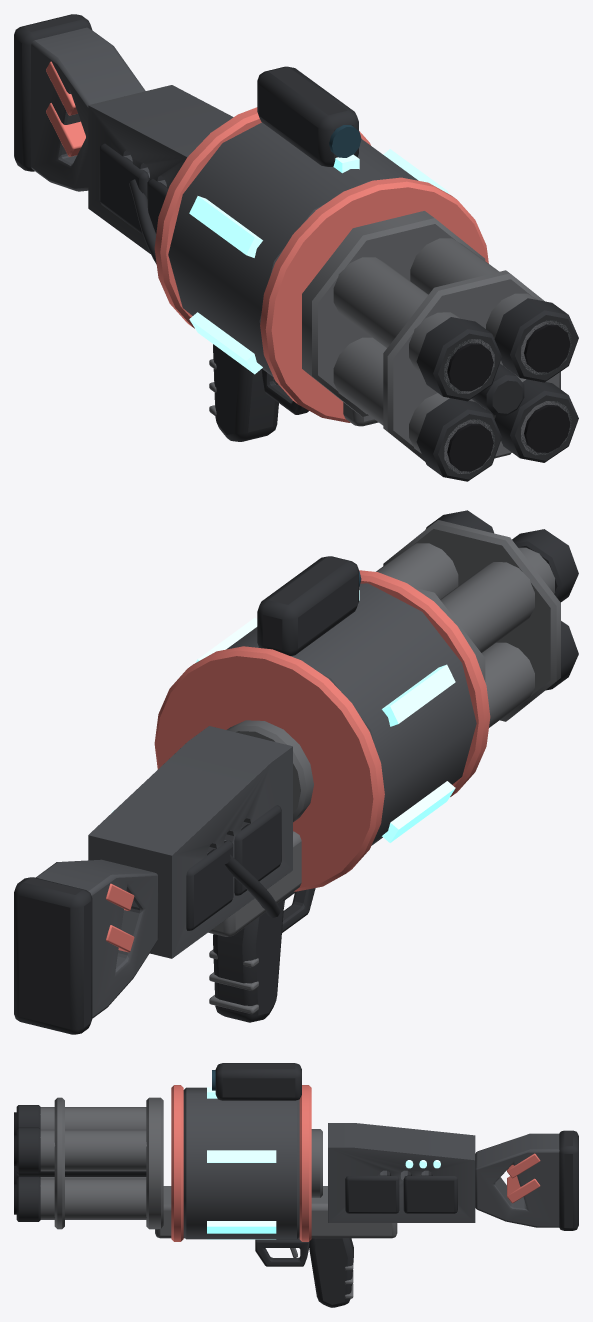
The model's file is grenade.glb.
3 renders of one model, top to bottom at view 1: azimuth 30°, elevation 25°; view 2: azimuth 150°, elevation 25°; view 3: azimuth 270°, elevation 25°, orthographic. The views are drawn at different scales.
Parts seen in each view (by area): view 1: drum.001, drumBand.001, rearBody, stock.003, spinPlate, spinPlate.001, barrel.010, sight.001, barrel.011, grip.004, drumBand, barrel.009 (+18 smaller); view 2: drumBand, rearBody, drum.001, stockPad.003, stock.003, spinPlate.001, sight.001, barrel.010, grip.004, drumBand.001, barrel.011, plate.030 (+10 smaller); view 3: drum.001, rearBody, stock.003, barrel.009, barrel.012, sight.001, grip.004, frame.001, spinPlate, barrel.010, plate.031, plate.033 (+14 smaller).
Boxes of the visible parts, left/top/right/bottom form: drum.001: left=168, top=122, right=418, bottom=376; drumBand.001: left=260, top=177, right=488, bottom=422; rearBody: left=88, top=85, right=233, bottom=253; stock.003: left=31, top=27, right=145, bottom=191; spinPlate: left=302, top=211, right=485, bottom=416; spinPlate.001: left=383, top=270, right=560, bottom=461; barrel.010: left=333, top=257, right=494, bottom=393; sight.001: left=257, top=66, right=358, bottom=166; barrel.011: left=333, top=337, right=494, bottom=473; grip.004: left=213, top=344, right=278, bottom=441; drumBand: left=154, top=107, right=370, bottom=328; barrel.009: left=410, top=238, right=571, bottom=374; drumBand: left=154, top=646, right=384, bottom=891; rearBody: left=88, top=726, right=292, bottom=958; drum.001: left=226, top=583, right=476, bottom=845; stockPad.003: left=14, top=877, right=92, bottom=1034; stock.003: left=36, top=859, right=158, bottom=1018; spinPlate.001: left=383, top=520, right=560, bottom=721; sight.001: left=257, top=556, right=358, bottom=655; barrel.010: left=440, top=547, right=554, bottom=652; grip.004: left=213, top=899, right=283, bottom=1022; drumBand.001: left=359, top=570, right=490, bottom=796; barrel.011: left=481, top=642, right=534, bottom=727; plate.030: left=186, top=840, right=233, bottom=930; drum.001: left=183, top=1087, right=299, bottom=1239; rearBody: left=328, top=1123, right=475, bottom=1222; stock.003: left=475, top=1133, right=559, bottom=1227; barrel.009: left=40, top=1129, right=146, bottom=1171; barrel.012: left=40, top=1178, right=146, bottom=1219; sight.001: left=215, top=1063, right=301, bottom=1100; grip.004: left=309, top=1238, right=353, bottom=1307; frame.001: left=155, top=1186, right=397, bottom=1238; spinPlate: left=146, top=1097, right=163, bottom=1229; barrel.010: left=40, top=1107, right=146, bottom=1129; plate.031: left=403, top=1175, right=457, bottom=1213; plate.033: left=345, top=1175, right=399, bottom=1213.
Bounding box in the file's own units: 0.91 × 1.51 × 3.27.
